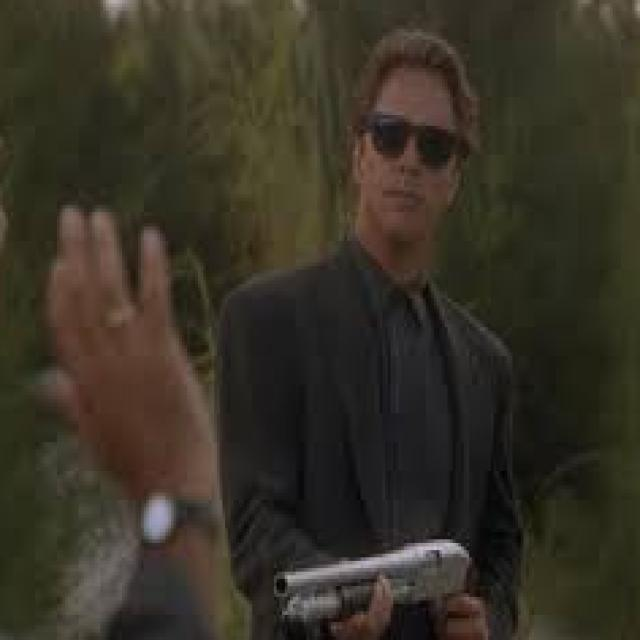gun: (268, 503, 496, 640)
